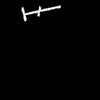double_crochet: (22, 6, 59, 20)
